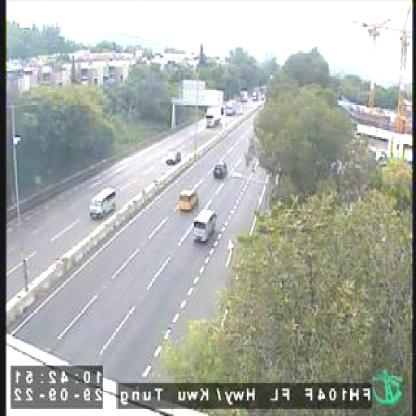Car: (87, 185, 120, 222), (194, 206, 222, 241), (177, 187, 201, 212), (212, 156, 230, 177), (164, 149, 183, 166), (225, 99, 239, 116)
Truck: (203, 104, 222, 127)
